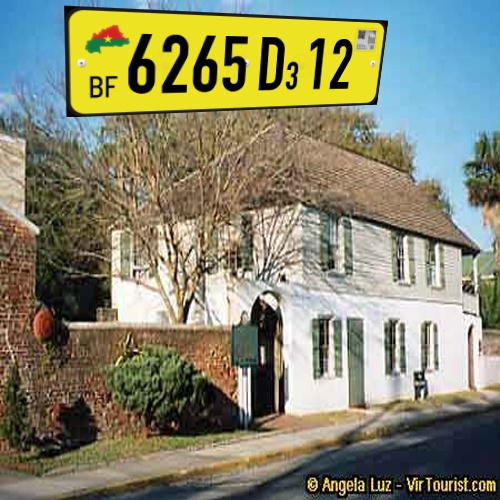plate: (59, 4, 391, 122)
